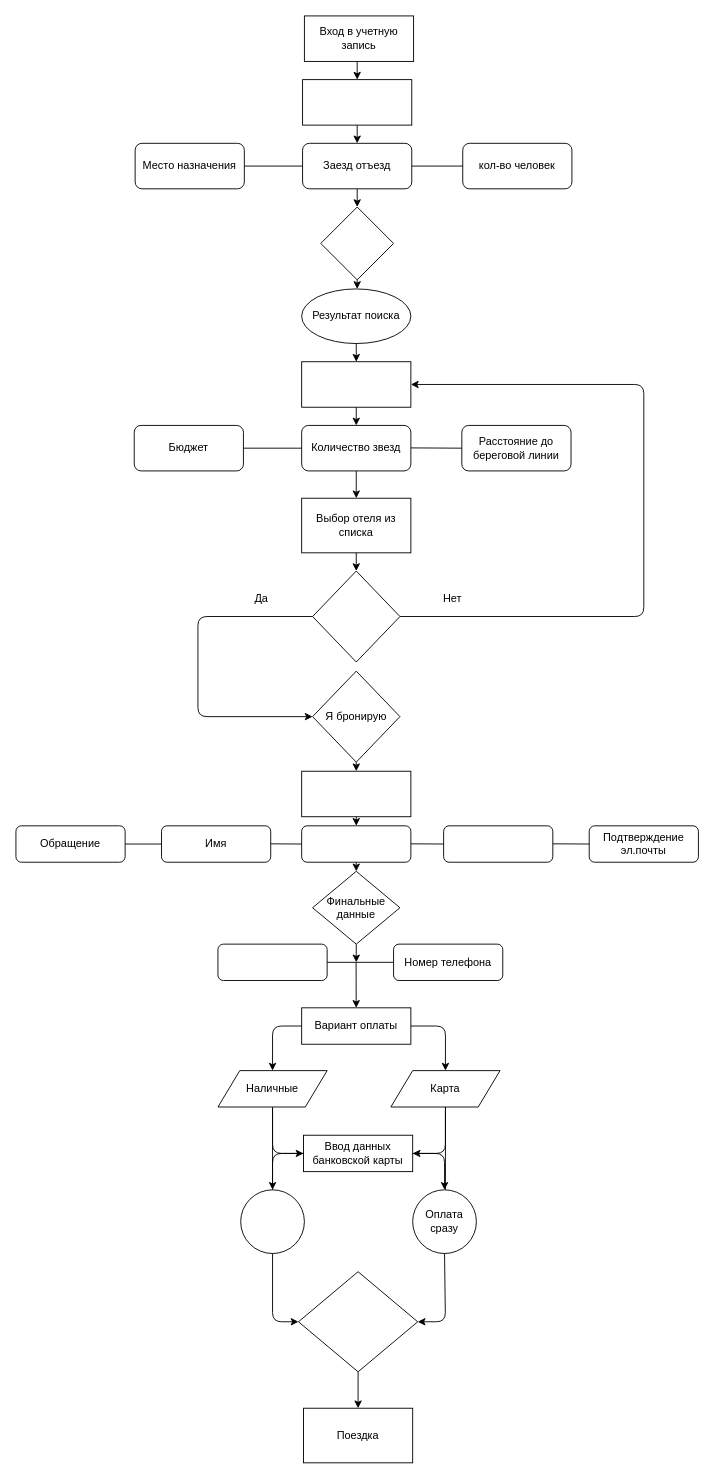
Some shapes in this 714 by 1479 pixel diagram are drawn without their labels. Here are the shapes that lost their labels. From the top down, the centre of each, then its label:
[357,102]: Ввод параметров поиска
[357,243]: Проверить цены
[356,384]: Ввод дополнительных критериев
[356,616]: Забронировать
[356,793]: Ввод своих данных (на латинице)
[356,843]: Фамилия
[498,843]: Адрес эл.почты
[272,962]: Страна
[272,1221]: Оплата по приезду
[358,1321]: Завершить бронирование
